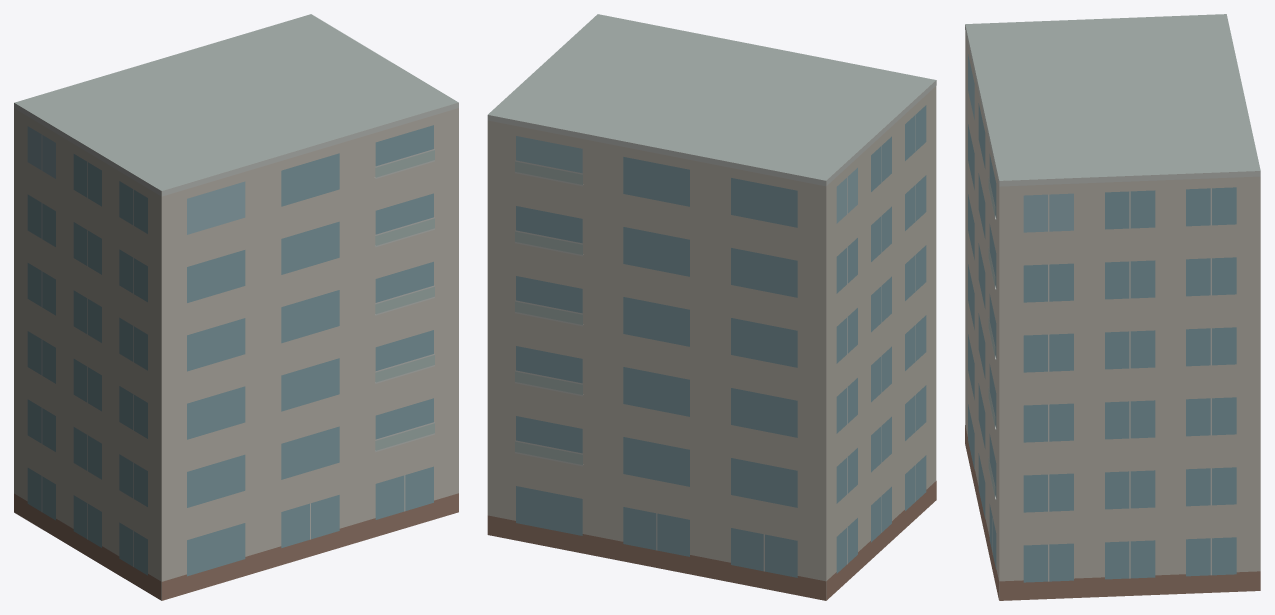
Rendered from survey-upis-32755229.glb.
3 views of the same model, side by side, from view 1: azimuth 30°, elevation 25°; view 2: azimuth 150°, elevation 25°; view 3: azimuth 270°, elevation 25° (orthographic). The views are drawn at different scales.
Parts seen in each view (by area): view 1: survey-upis-32755229.tmp; view 2: survey-upis-32755229.tmp; view 3: survey-upis-32755229.tmp.
Boxes of the visible parts, x1,y1,x2,y2 form: survey-upis-32755229.tmp: (14, 14, 458, 600); survey-upis-32755229.tmp: (487, 14, 936, 600); survey-upis-32755229.tmp: (965, 14, 1260, 600).
Bounding box in the file's own units: 15.61 × 18.3 × 11.68.
